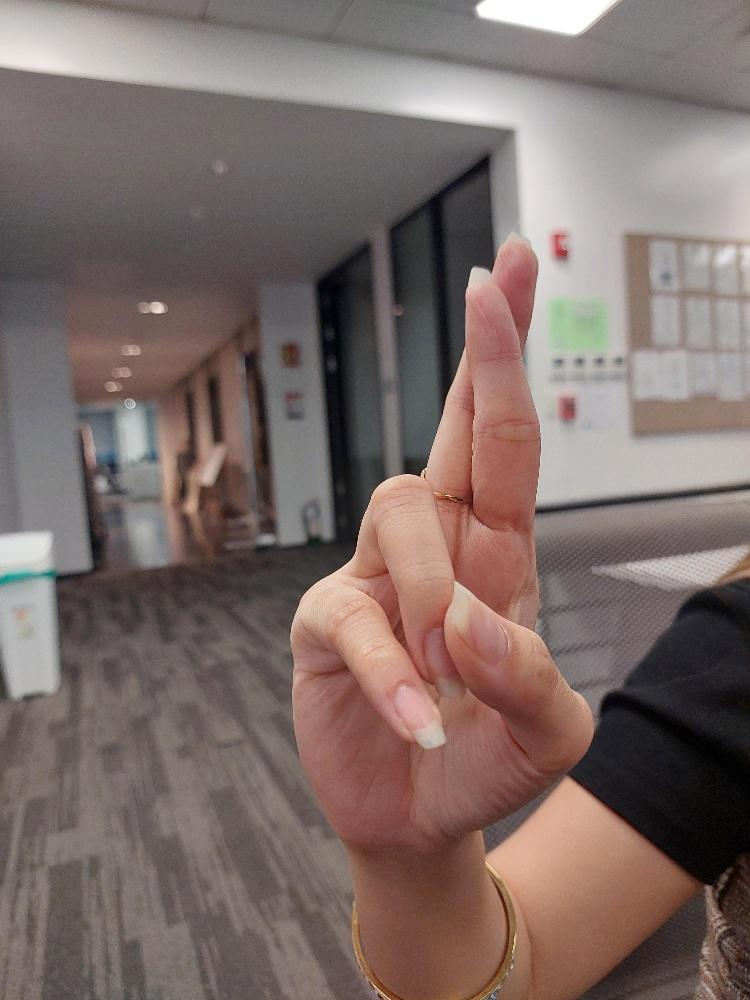r: (283, 225, 596, 851)
